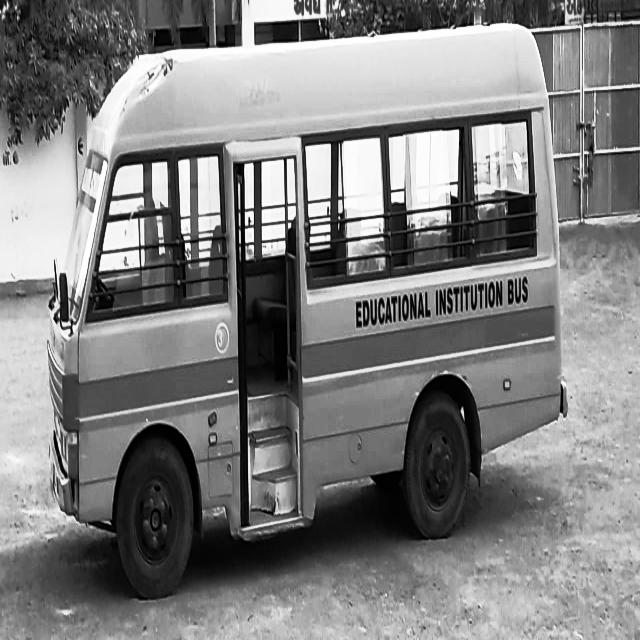Bus: (46, 32, 570, 580)
